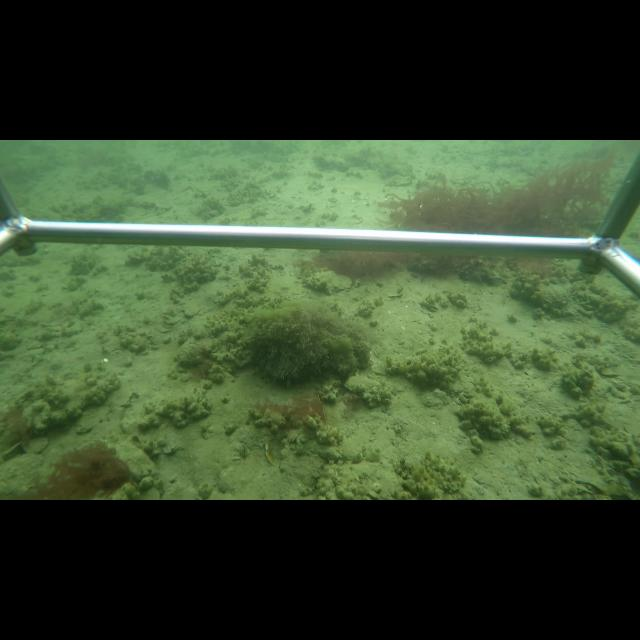Oyster-Closed: (319, 461, 408, 499), (302, 270, 354, 294), (343, 374, 393, 397)
